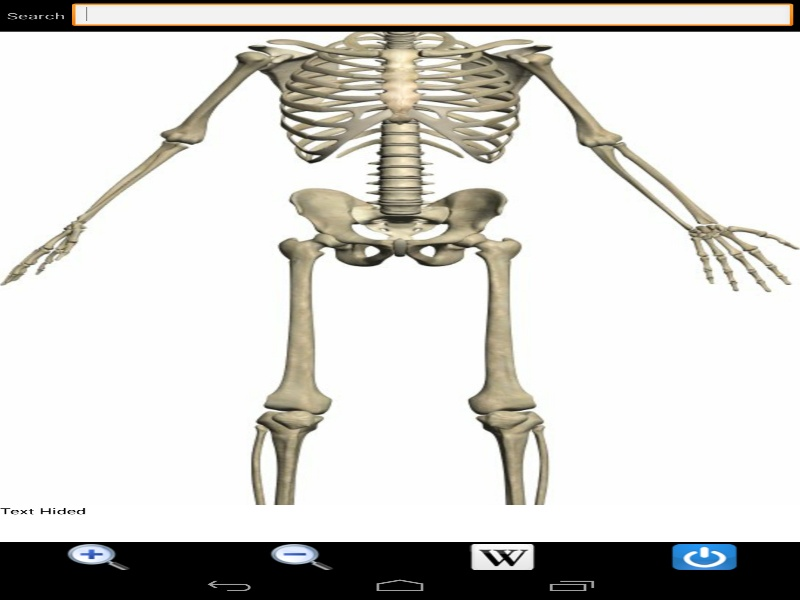Button: (204, 543, 396, 570), (406, 543, 598, 570), (608, 543, 800, 570), (3, 543, 194, 570)
Input: (72, 3, 793, 28)
